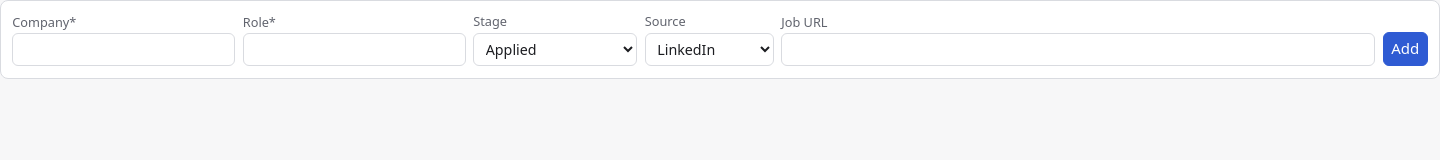
Test: QuickAdd › refuses to submit without a role
This screenshot has width=1440, height=160.
In the field labelled "Company*": {"x": 124, "y": 50} [12, 33, 235, 66], type "Acme Widgets"
Then press Enter
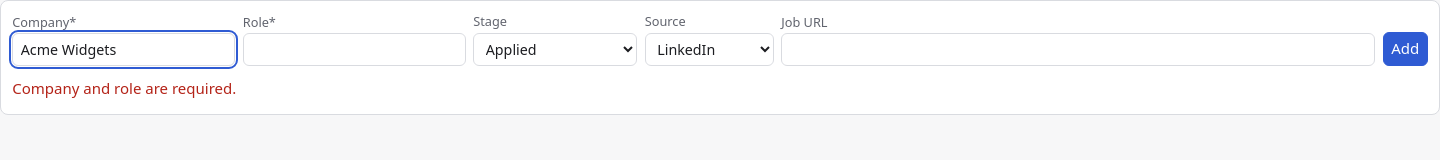
Result: the message shows "required" at [12, 78, 236, 98]
